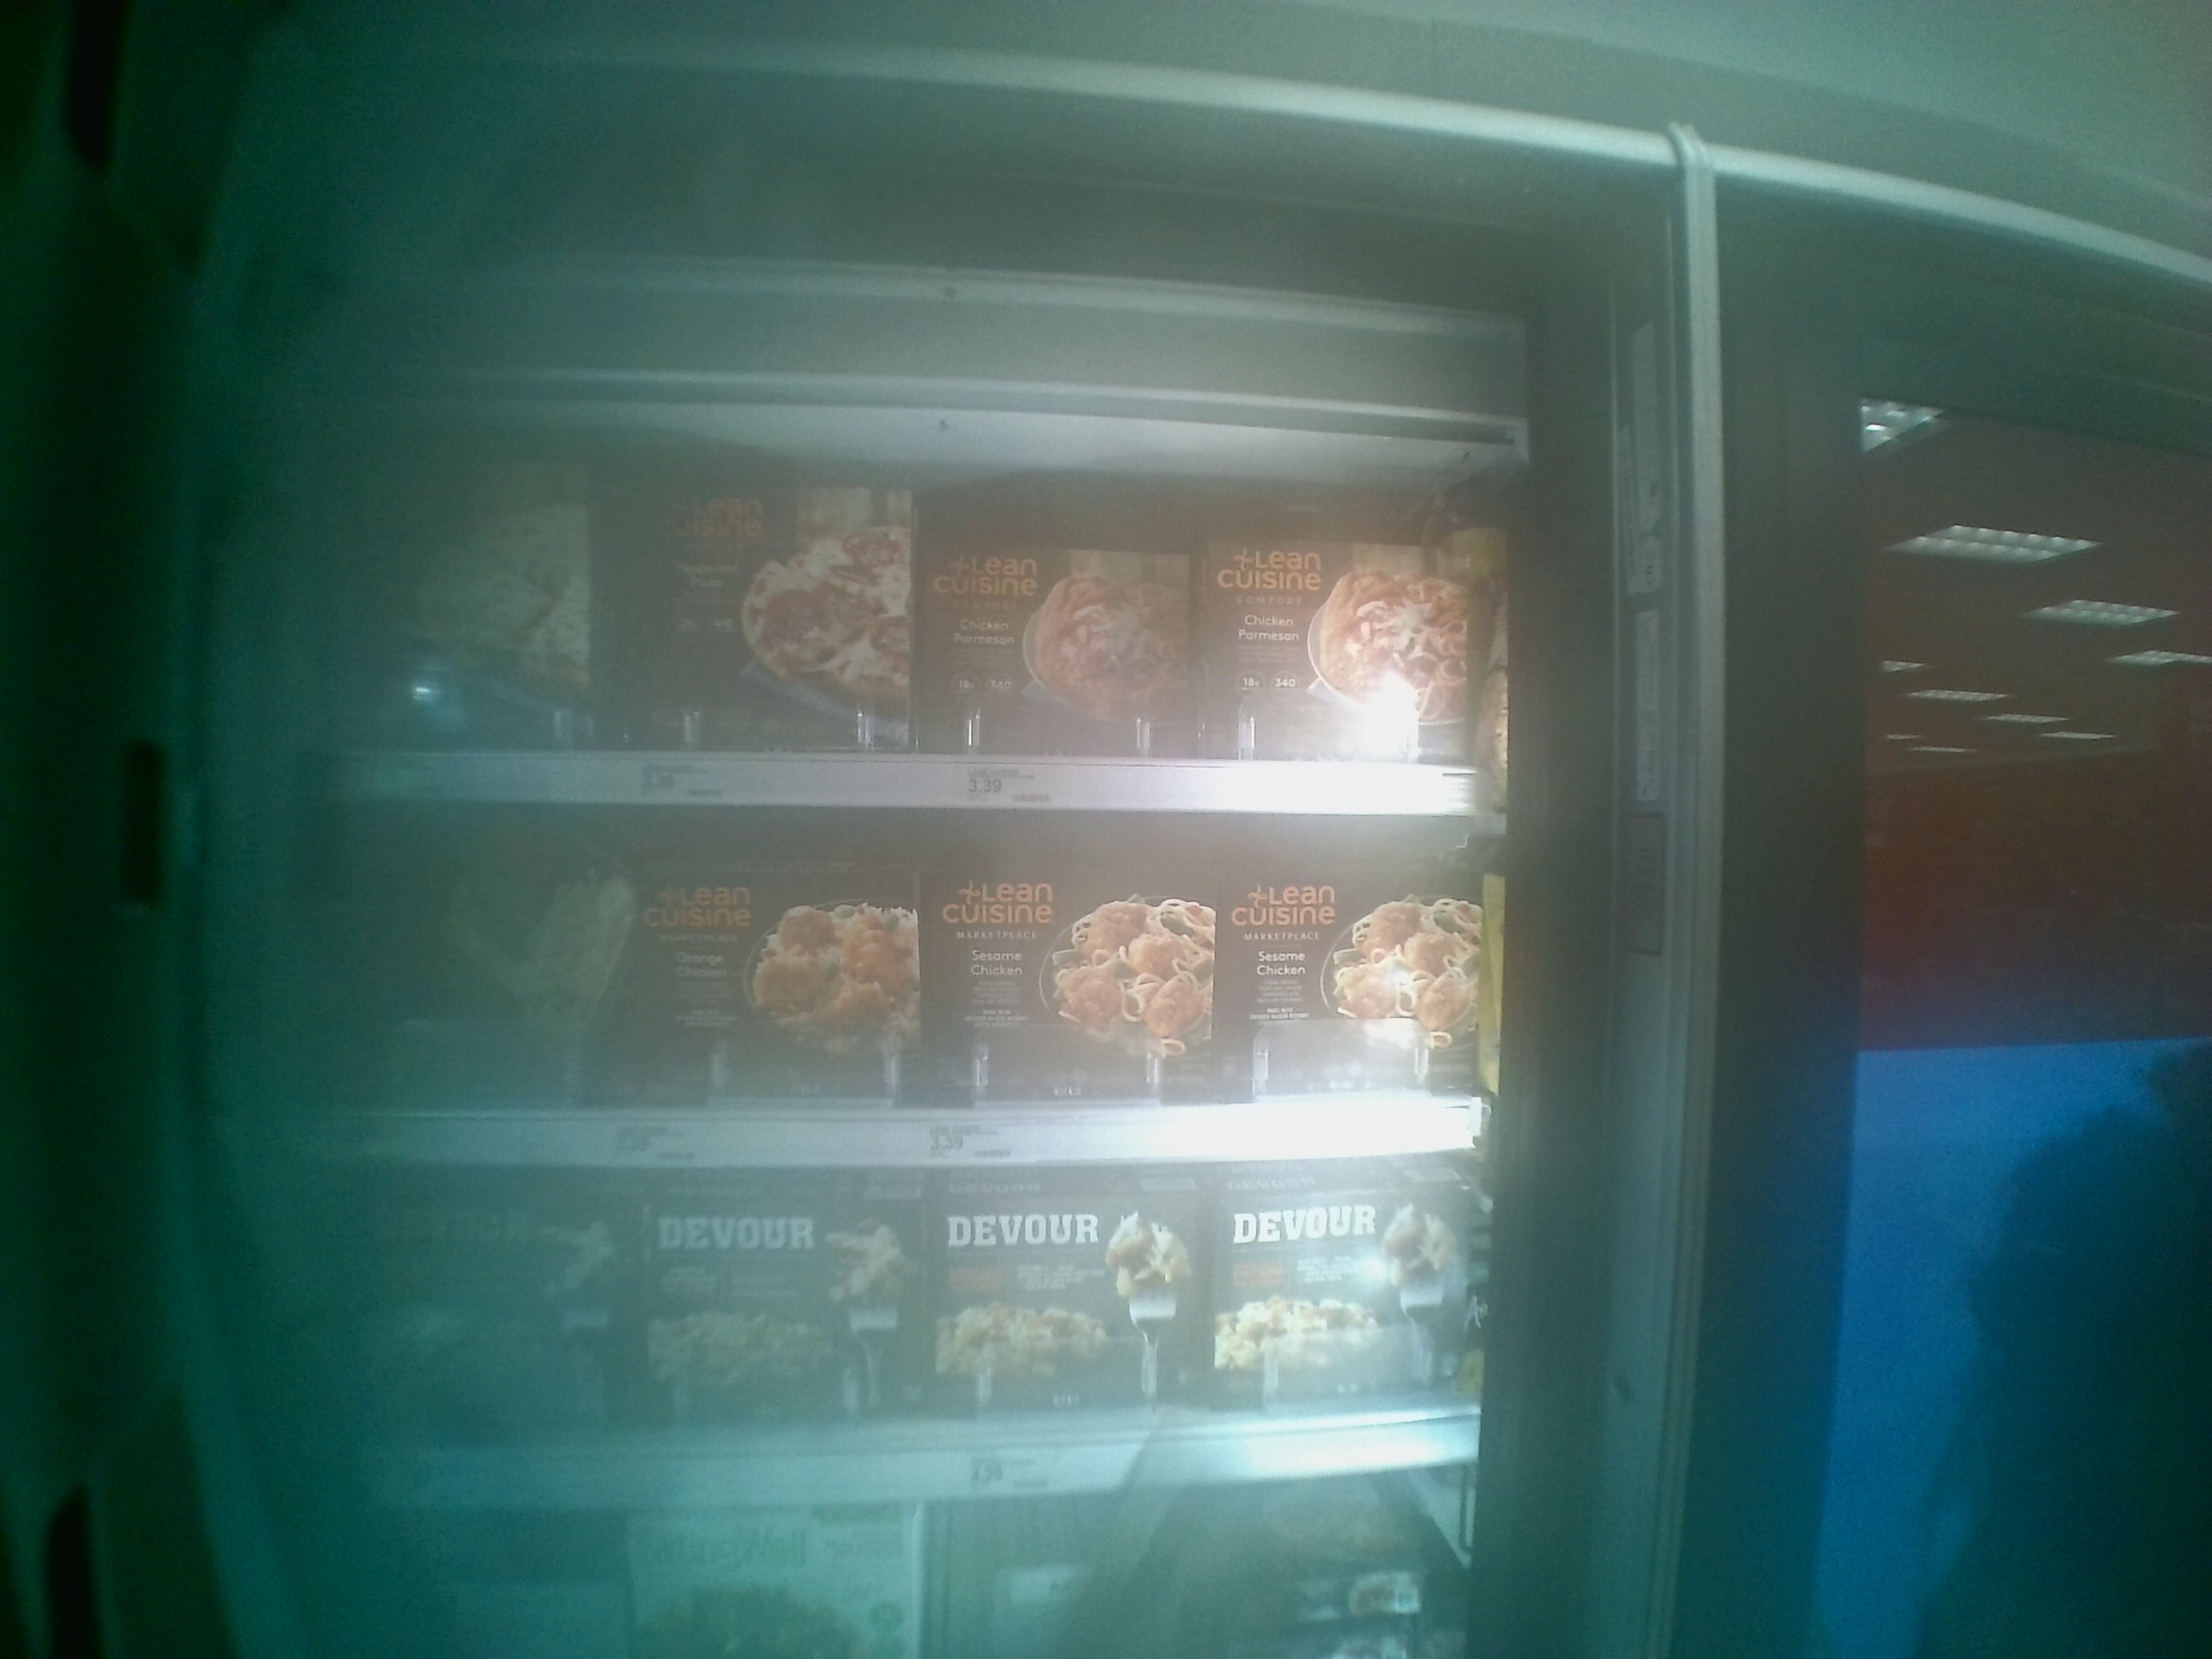shelf: (320, 812, 1505, 1175), (319, 453, 1468, 814), (319, 1173, 1505, 1502)
